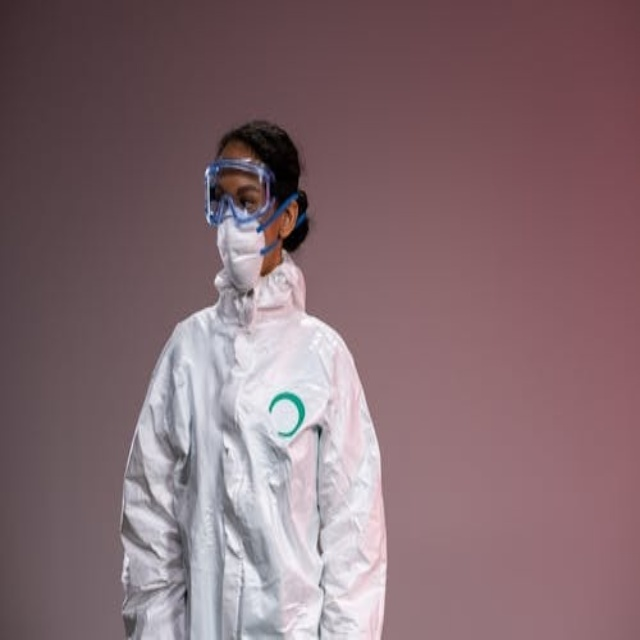Gafas: (205, 158, 293, 228)
Mascara: (216, 203, 275, 292)
